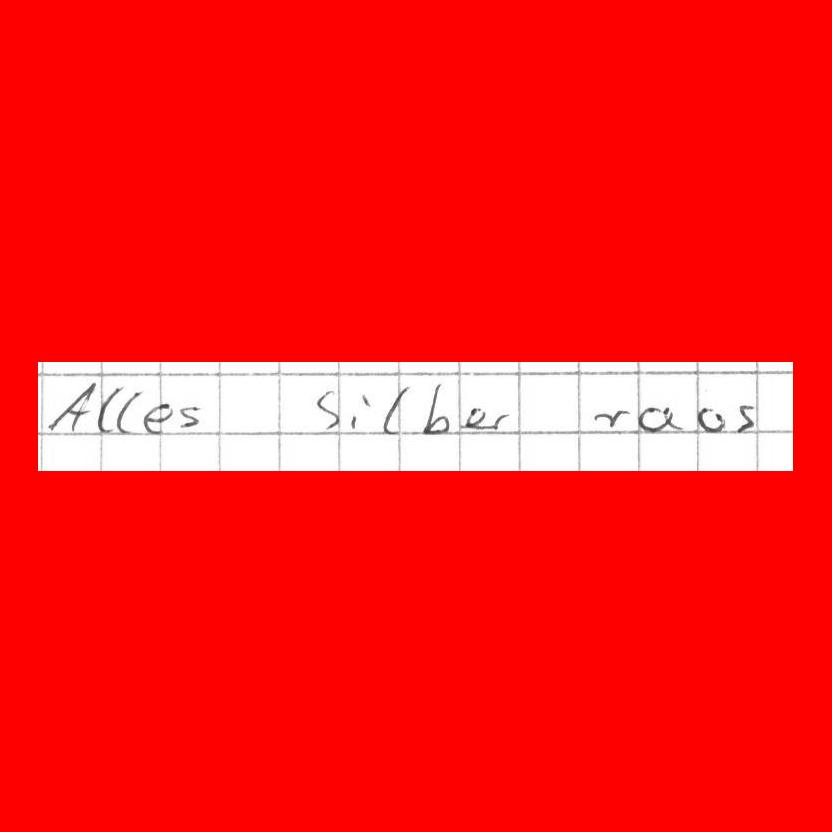Char: (47, 381, 98, 433), (419, 380, 451, 435), (637, 400, 685, 434), (378, 385, 410, 435), (96, 384, 121, 434), (315, 387, 344, 430), (115, 390, 142, 434), (142, 401, 175, 434), (349, 392, 374, 431), (696, 404, 729, 433), (177, 401, 206, 431), (735, 398, 757, 436), (598, 405, 632, 428), (464, 404, 488, 432), (486, 409, 512, 432)
